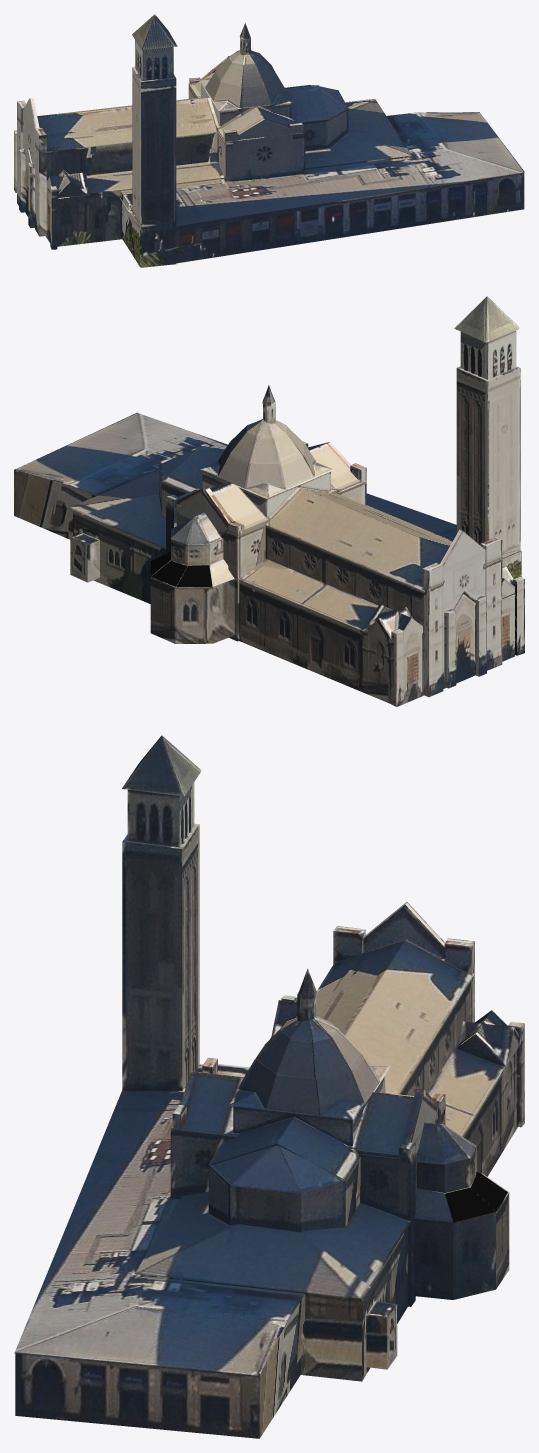
The model's file is CatedráldeValparaíso.fbx.
3 renders of one model, top to bottom at view 1: azimuth 30°, elevation 25°; view 2: azimuth 150°, elevation 25°; view 3: azimuth 270°, elevation 25°, orthographic. The views are drawn at different scales.
Parts seen in each view (by area): view 1: skp925E1; view 2: skp925E1; view 3: skp925E1.
Part boxes in pixels (x1,y1,x2,y2): skp925E1: [14, 14, 524, 267]; skp925E1: [14, 296, 524, 706]; skp925E1: [14, 735, 524, 1438].
Size of the model in its own units: 87.89 by 49.44 by 54.61.
